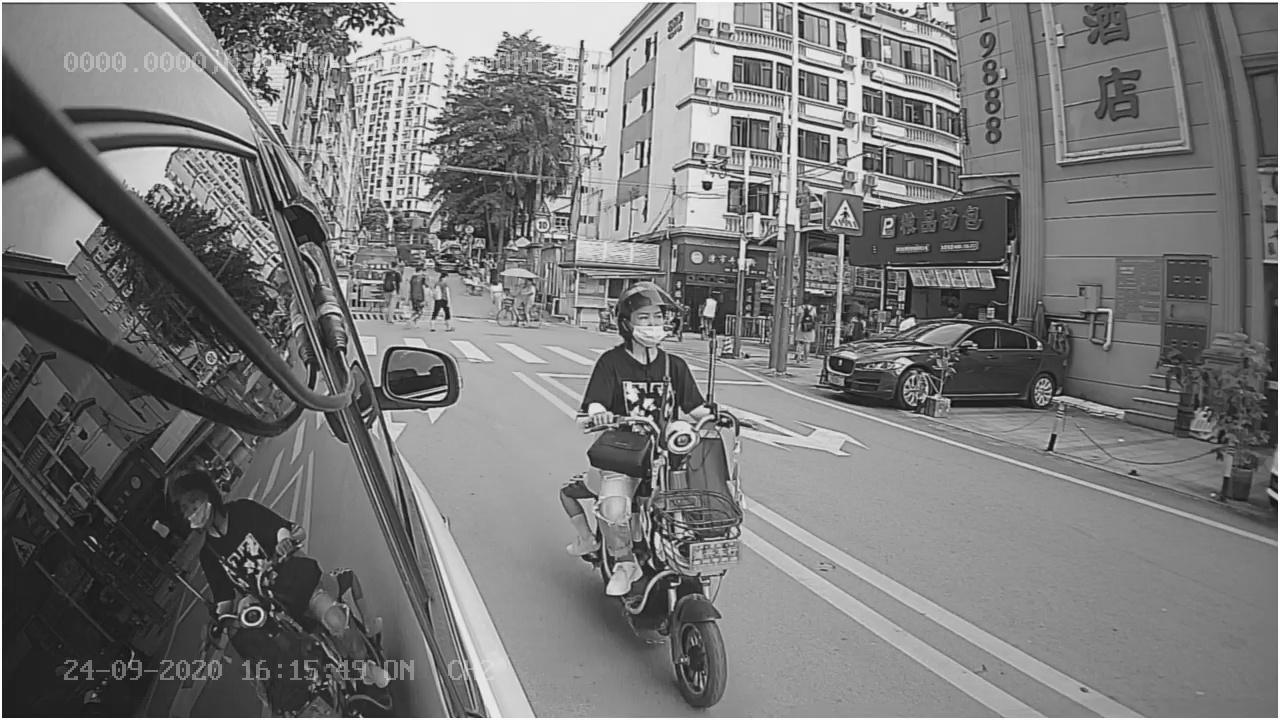person: (532, 282, 774, 689)
